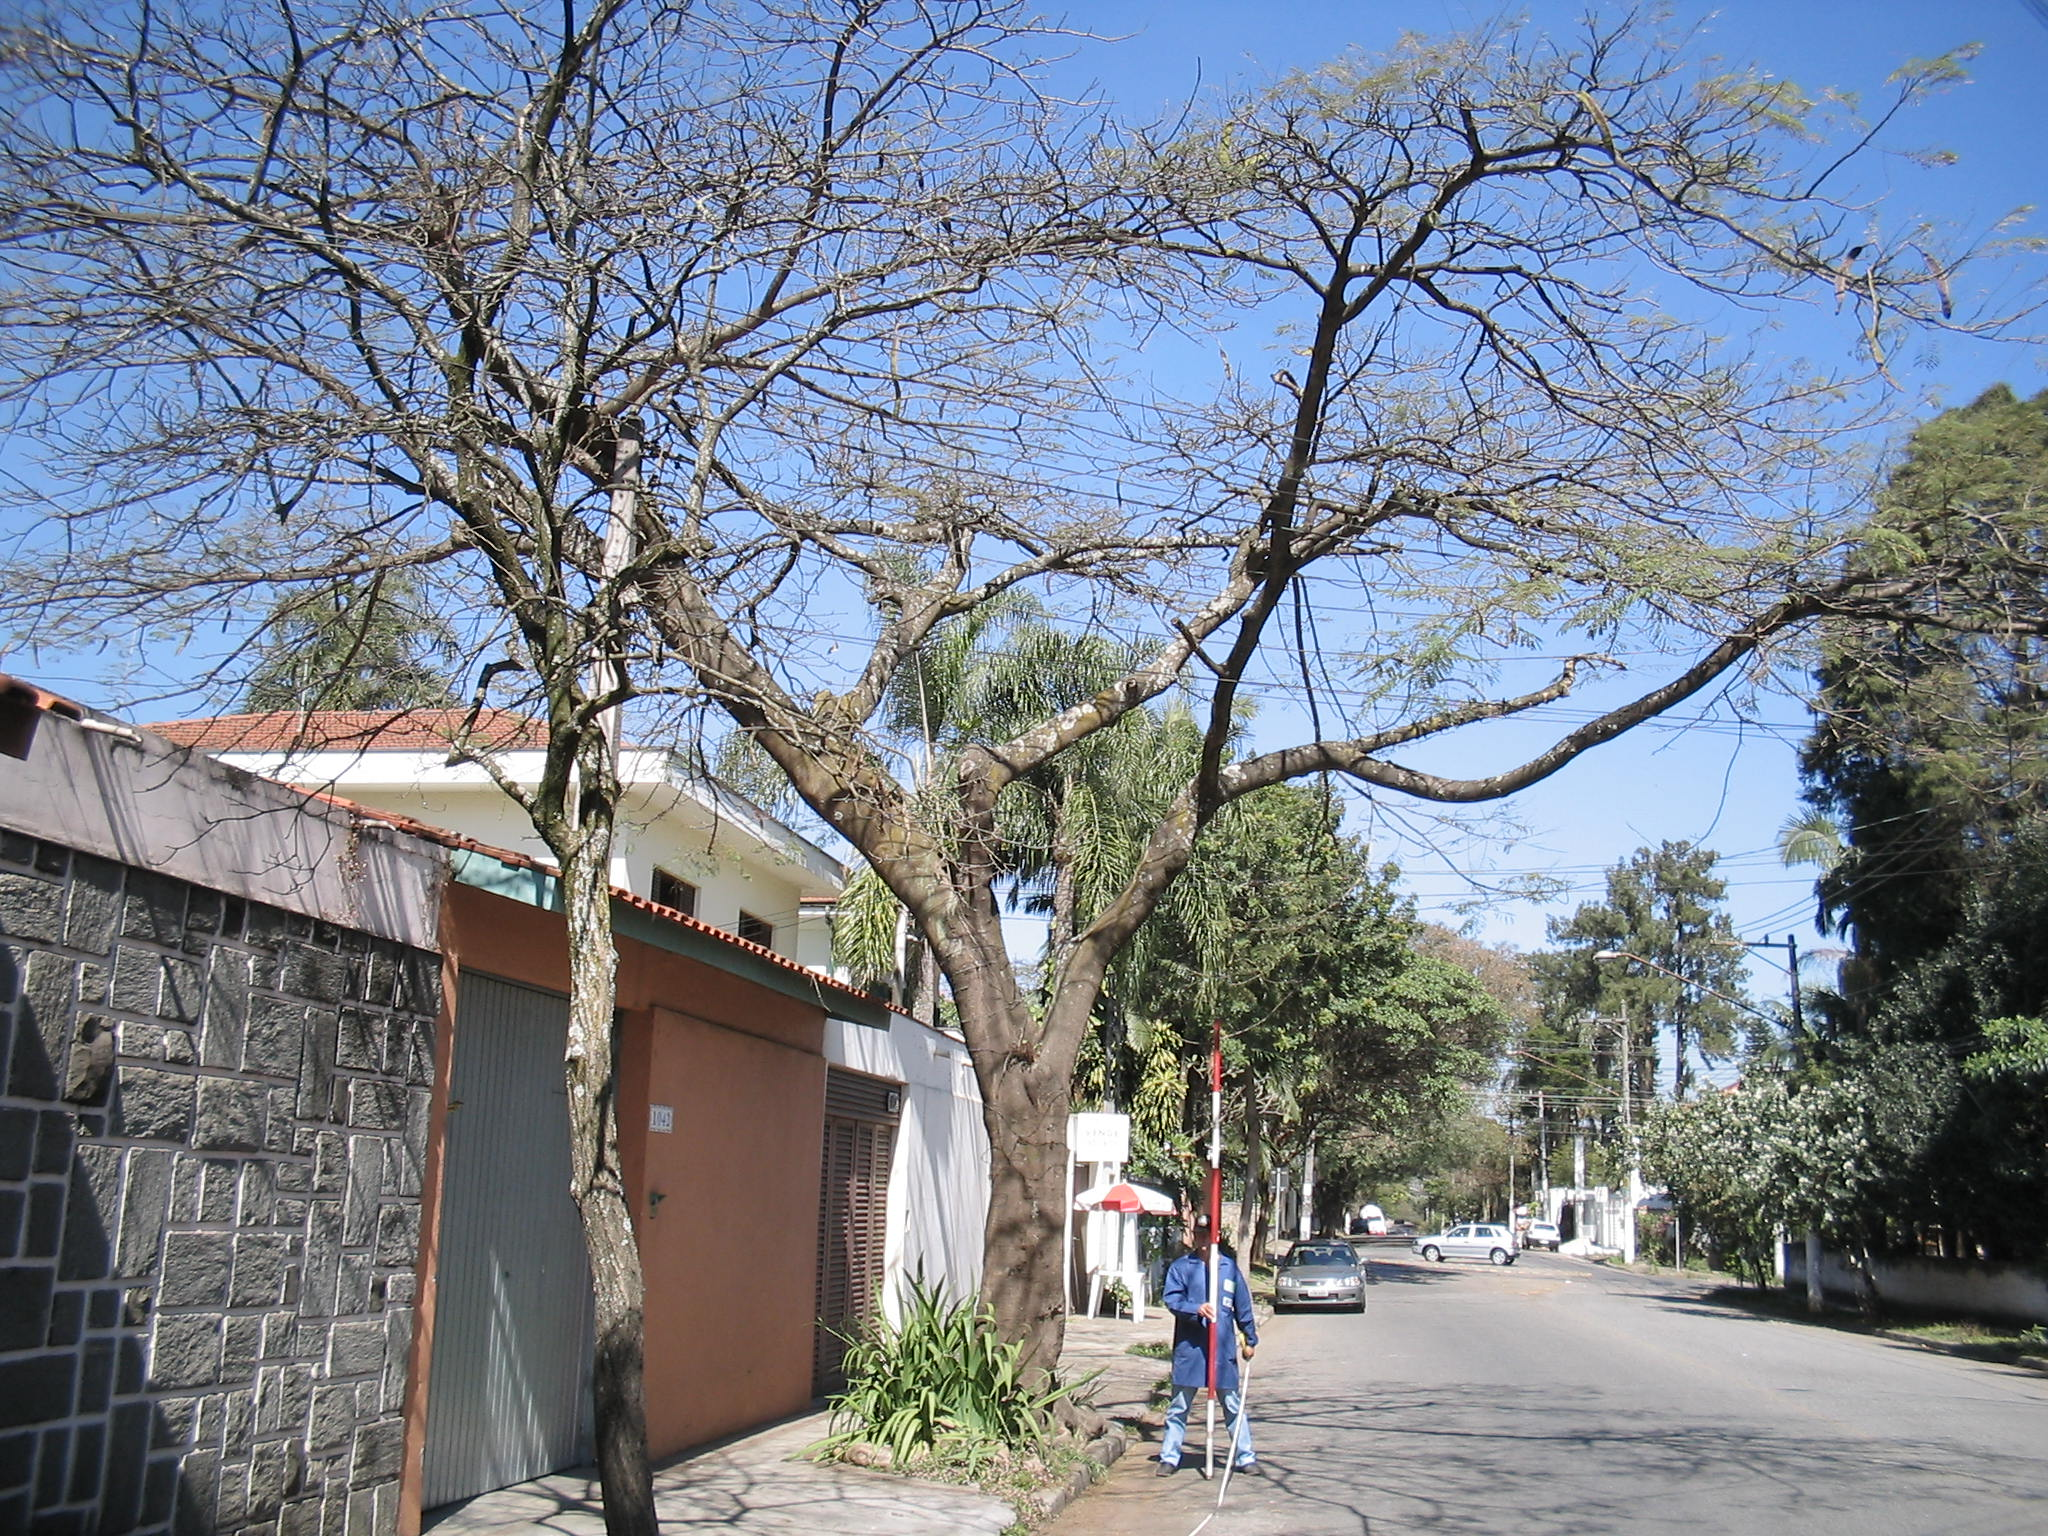stem: (456, 797, 760, 1536), (929, 1054, 1109, 1444)
stick: (1171, 1013, 1251, 1483)
tree: (8, 6, 2043, 1444)
